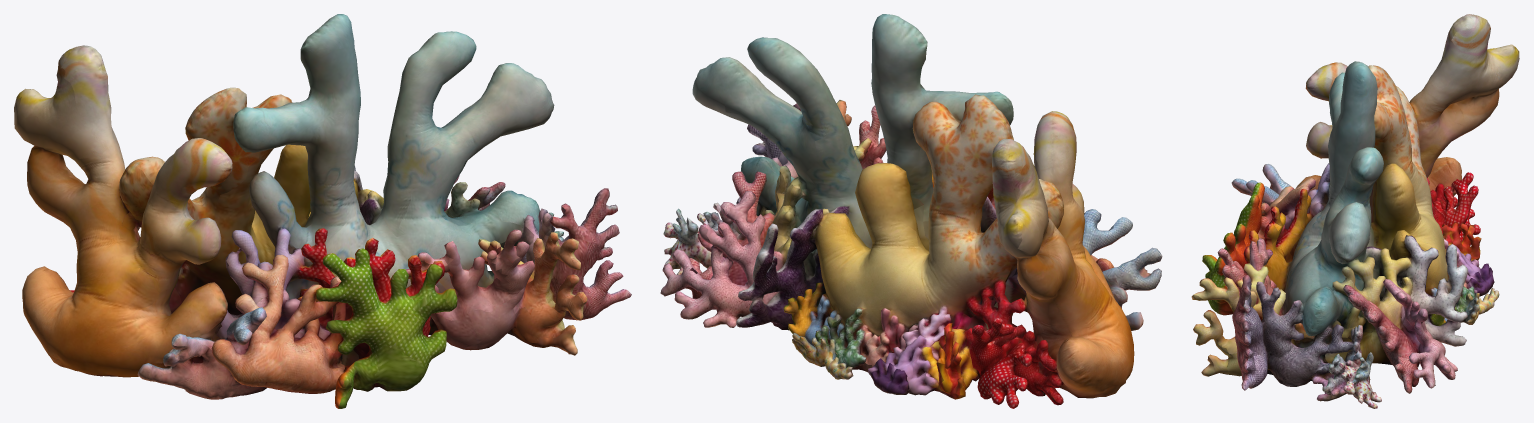
Rendered from coral1objcleanedupold2.glb.
3 views of the same model, side by side, from view 1: azimuth 30°, elevation 25°; view 2: azimuth 150°, elevation 25°; view 3: azimuth 270°, elevation 25° (orthographic). The views are drawn at different scales.
Parts seen in each view (by area): view 1: textured; view 2: textured; view 3: textured.
Part boxes in pixels (box(x1,y1,x2,y2)): textured: box(14, 14, 631, 408); textured: box(660, 14, 1162, 408); textured: box(1191, 14, 1519, 408).
Size of the model in its own units: 2.06 by 1.22 by 1.4.
Materials: 1 (1 with a texture image).
